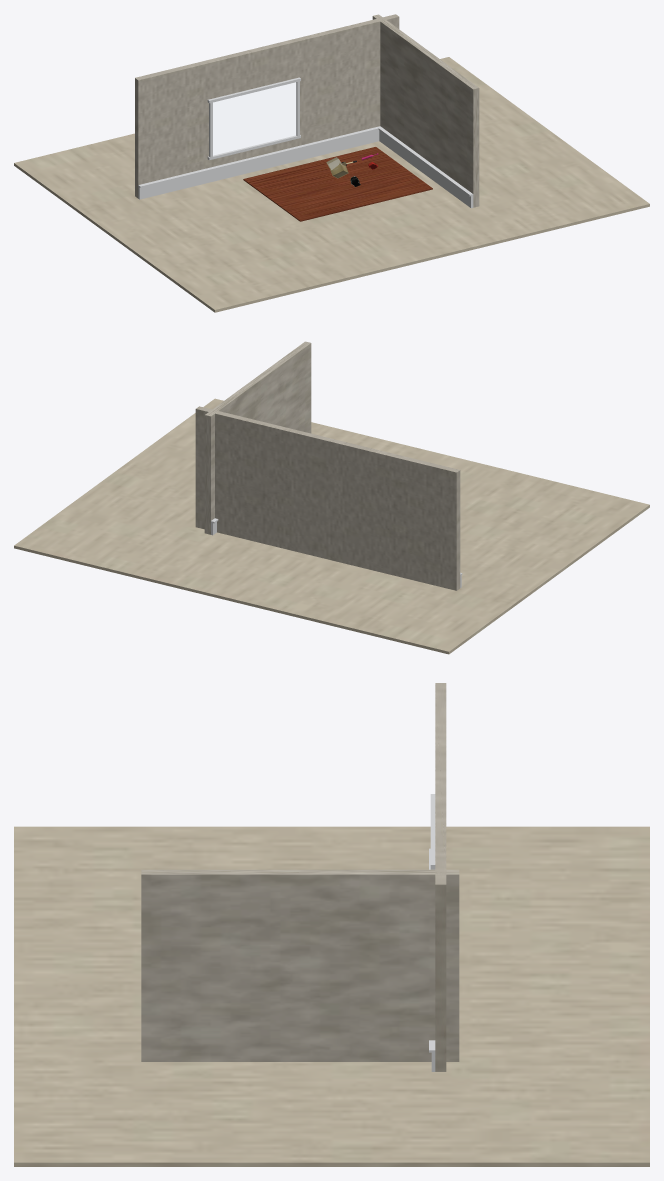
File: viga.glb
3 renders of one model, top to bottom at view 1: azimuth 30°, elevation 25°; view 2: azimuth 150°, elevation 25°; view 3: azimuth 270°, elevation 25°, orthographic. The views are drawn at different scales.
Parts seen in each view (by area): view 1: env_light_floor, env_back_wall, env_right_wall, env_dark_floor, env_win_pane, env_baseboard_back, env_baseboard_right, env_baseboard_back_cap, env_baseboard_right_cap; view 2: env_light_floor, env_back_wall, env_right_wall; view 3: env_light_floor, env_right_wall, env_back_wall.
Boxes of the visible parts, <box> form: env_light_floor: <box>14,57,649,312</box>; env_back_wall: <box>135,14,399,198</box>; env_right_wall: <box>372,14,479,207</box>; env_dark_floor: <box>243,147,432,221</box>; env_win_pane: <box>213,82,296,155</box>; env_baseboard_back: <box>138,130,379,199</box>; env_baseboard_right: <box>379,130,473,208</box>; env_baseboard_back_cap: <box>138,126,381,187</box>; env_baseboard_right_cap: <box>378,127,473,196</box>; env_light_floor: <box>14,398,649,654</box>; env_back_wall: <box>195,406,460,590</box>; env_right_wall: <box>204,341,311,534</box>; env_light_floor: <box>14,826,649,1166</box>; env_right_wall: <box>141,869,459,1061</box>; env_back_wall: <box>435,683,446,1071</box>.
Bounding box in the file's own units: 10 × 2.66 × 8.
Materials: 13 (7 with a texture image).
